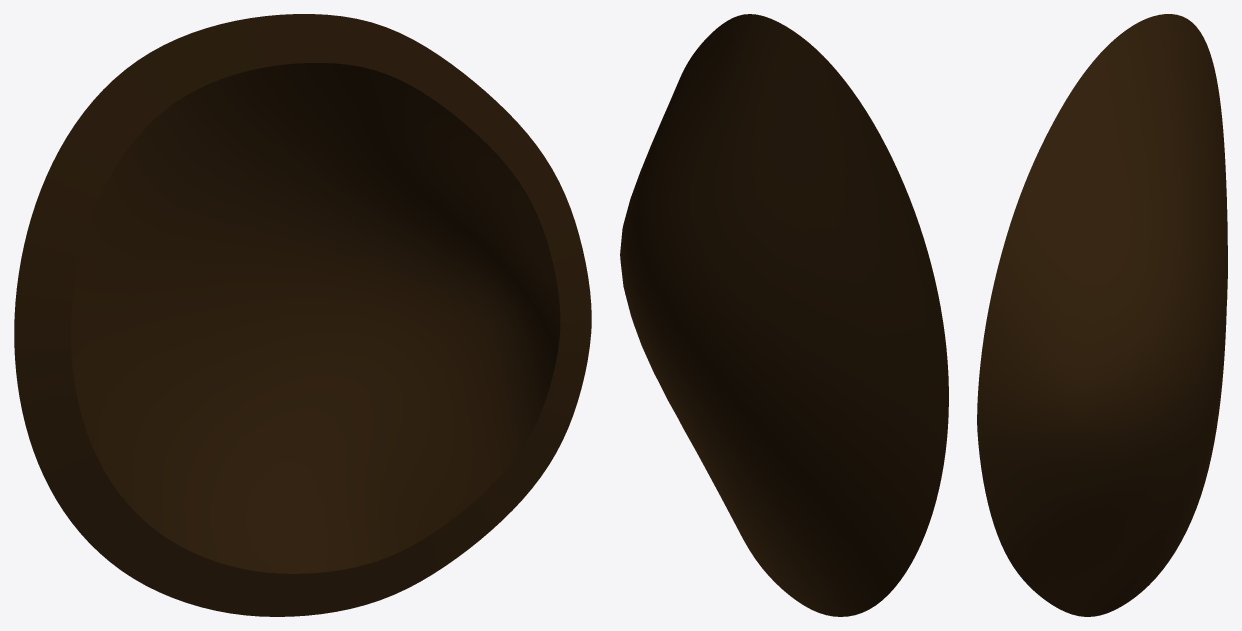
3 renders of one model, left to right at view 1: azimuth 30°, elevation 25°; view 2: azimuth 150°, elevation 25°; view 3: azimuth 270°, elevation 25°, orthographic. The views are drawn at different scales.
Size of the model in its own units: 0.2136 by 0.278 by 0.1113.
